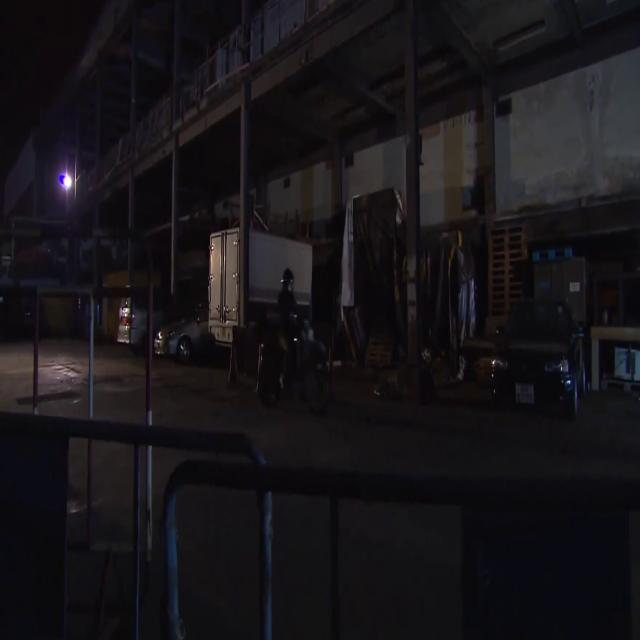Motorbike: (254, 274, 351, 477)
